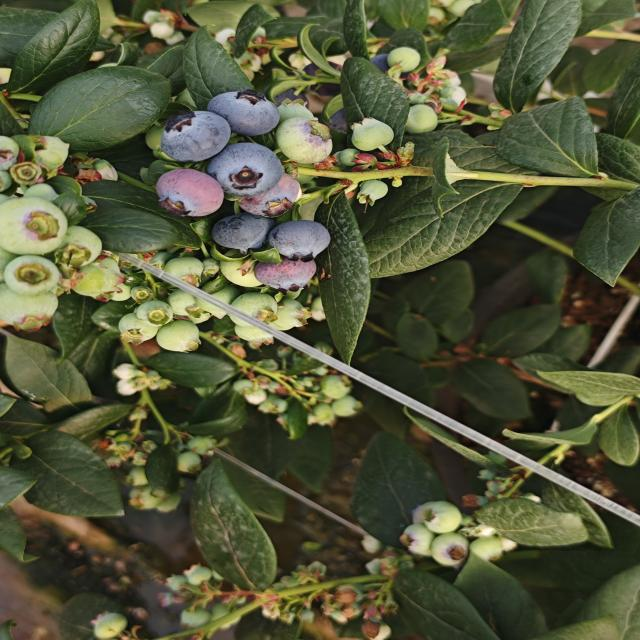ripe: (143, 101, 232, 158), (212, 142, 292, 192), (208, 207, 283, 255), (208, 82, 274, 136), (158, 170, 233, 214), (266, 216, 335, 262), (256, 255, 321, 290), (318, 97, 371, 138), (352, 47, 410, 80)
